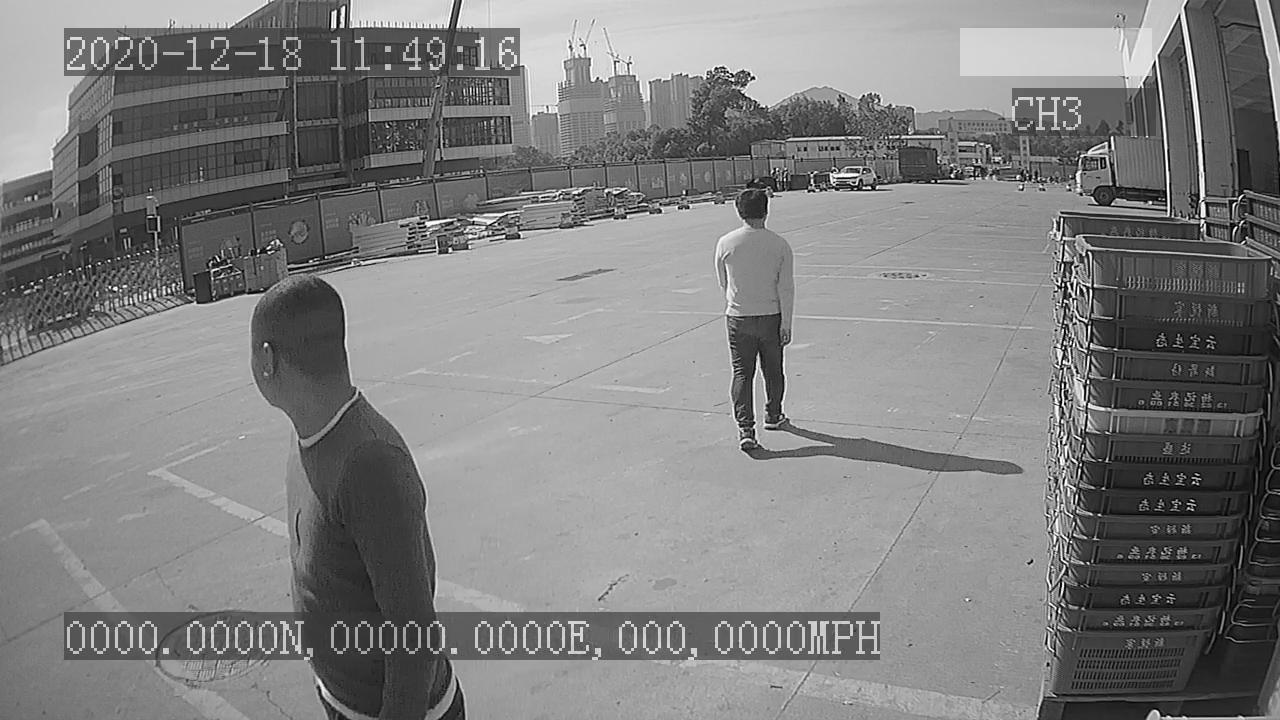person: (708, 185, 797, 458)
